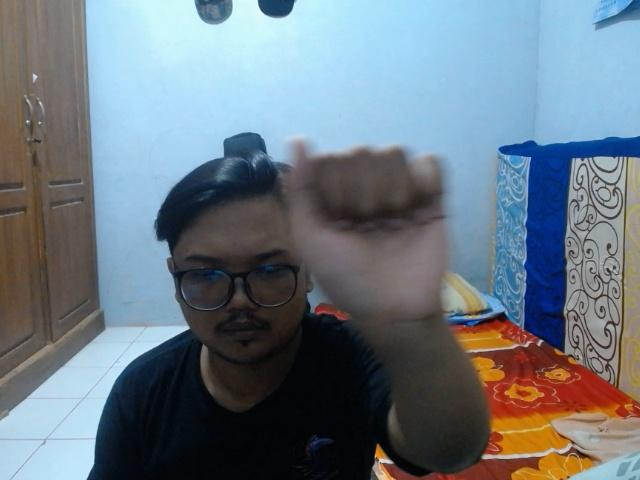Grab: (278, 131, 467, 333)
